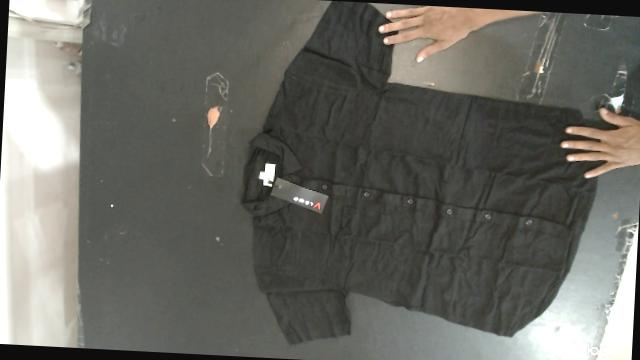new-garment: (241, 0, 596, 343)
